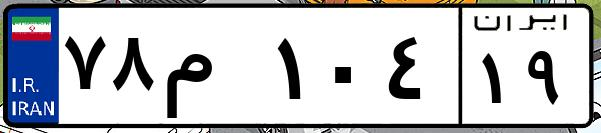0: (330, 28, 385, 110)
1: (270, 28, 330, 110), (475, 38, 525, 113)
4: (385, 28, 445, 110)
7: (57, 26, 110, 100)
8: (110, 28, 158, 98)
9: (525, 38, 570, 115)
م: (158, 20, 270, 120)
